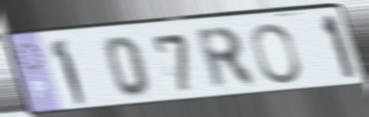0: (102, 34, 155, 100)
1: (318, 12, 361, 83), (47, 38, 90, 108)
7: (148, 31, 193, 94)
O: (249, 20, 303, 86)
R: (191, 25, 262, 93)
